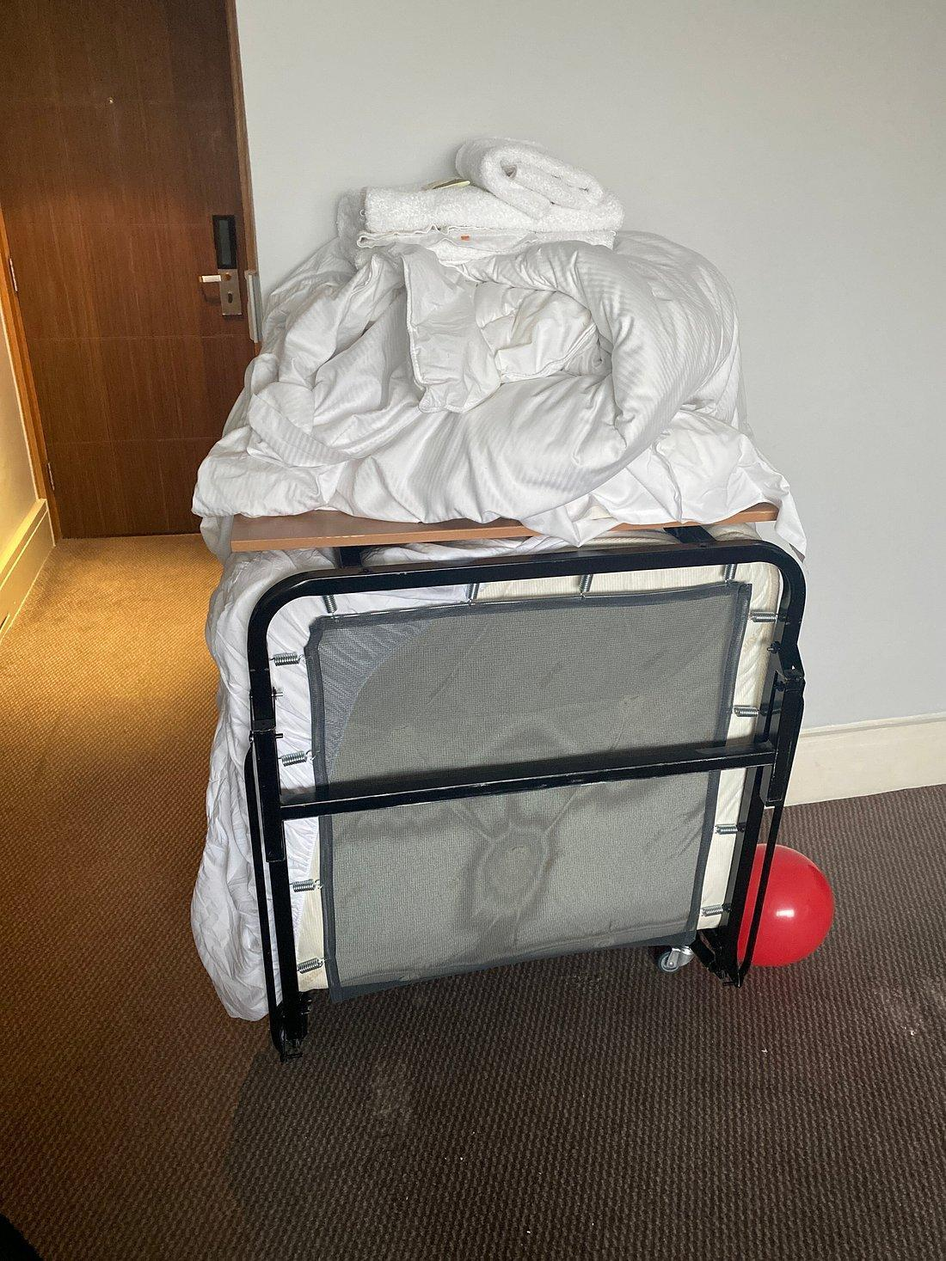mess: (217, 208, 780, 535)
